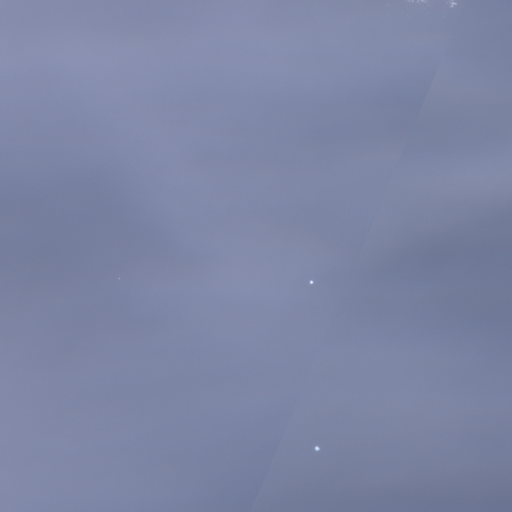Iceberg: (315, 446, 319, 450), (310, 280, 312, 283)
